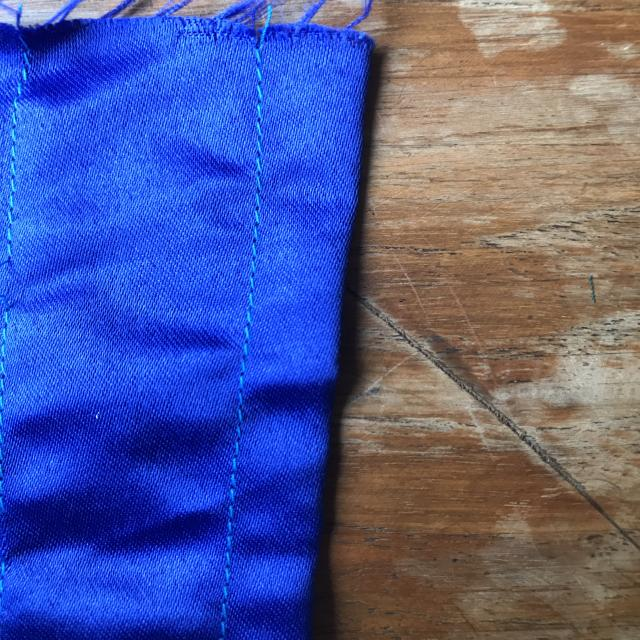good: (234, 211, 268, 361)
